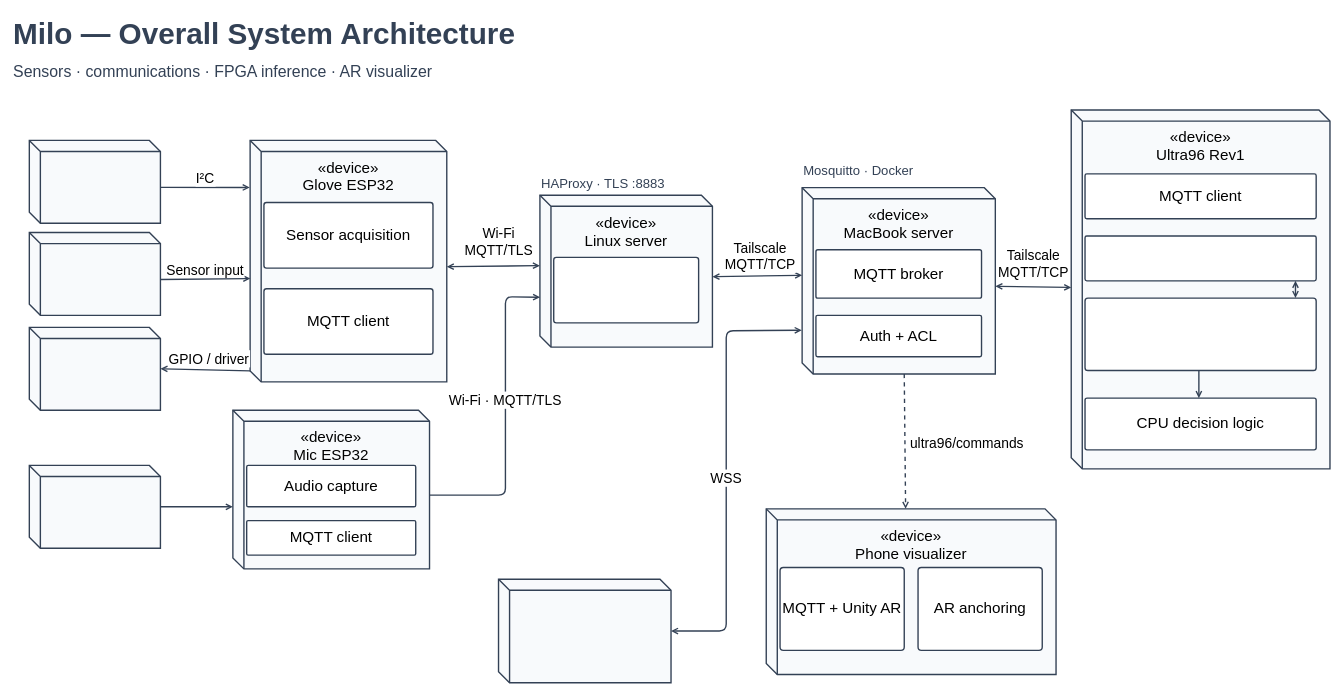
Image size: 1342x695. Some labels were removed from this diagram. The shapes that lost their labels are listed below. From the top down, each one's centre as x and y in pixels, then its label:
[94,181]: «device» MPU6050 IMU
[94,273]: «device» 3 finger sensors
[1200,258]: CPU preprocessing
[626,289]: TLS relay
[1200,334]: FPGA: gesture + voice CNNs
[94,368]: «device» Vibration motor
[94,506]: «device» Microphone
[584,630]: «device» Browser console
